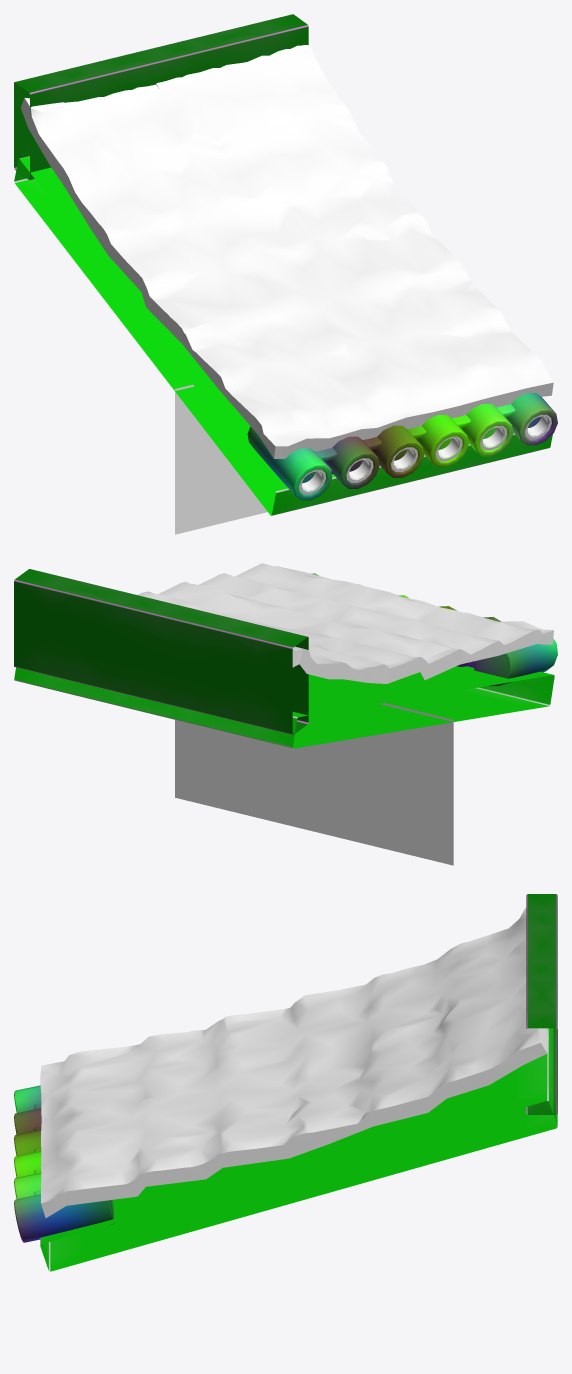
The model's file is wall_roof_fenced_100_01.fbx.
The picture shows the model from 3 angles, top to bottom: view 1: azimuth 30°, elevation 25°; view 2: azimuth 150°, elevation 25°; view 3: azimuth 270°, elevation 25°; orthographic projection.
Visible parts, largest first — view 1: wall_roof_fenced_100_01; view 2: wall_roof_fenced_100_01; view 3: wall_roof_fenced_100_01.
Boxes of the visible parts, left/top/right/bottom form: wall_roof_fenced_100_01: left=14, top=14, right=557, bottom=534; wall_roof_fenced_100_01: left=14, top=563, right=557, bottom=865; wall_roof_fenced_100_01: left=14, top=894, right=557, bottom=1271.
Size of the model in its own units: 1 by 1.15 by 1.71.
